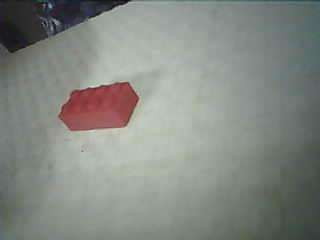lego: (56, 81, 139, 132)
